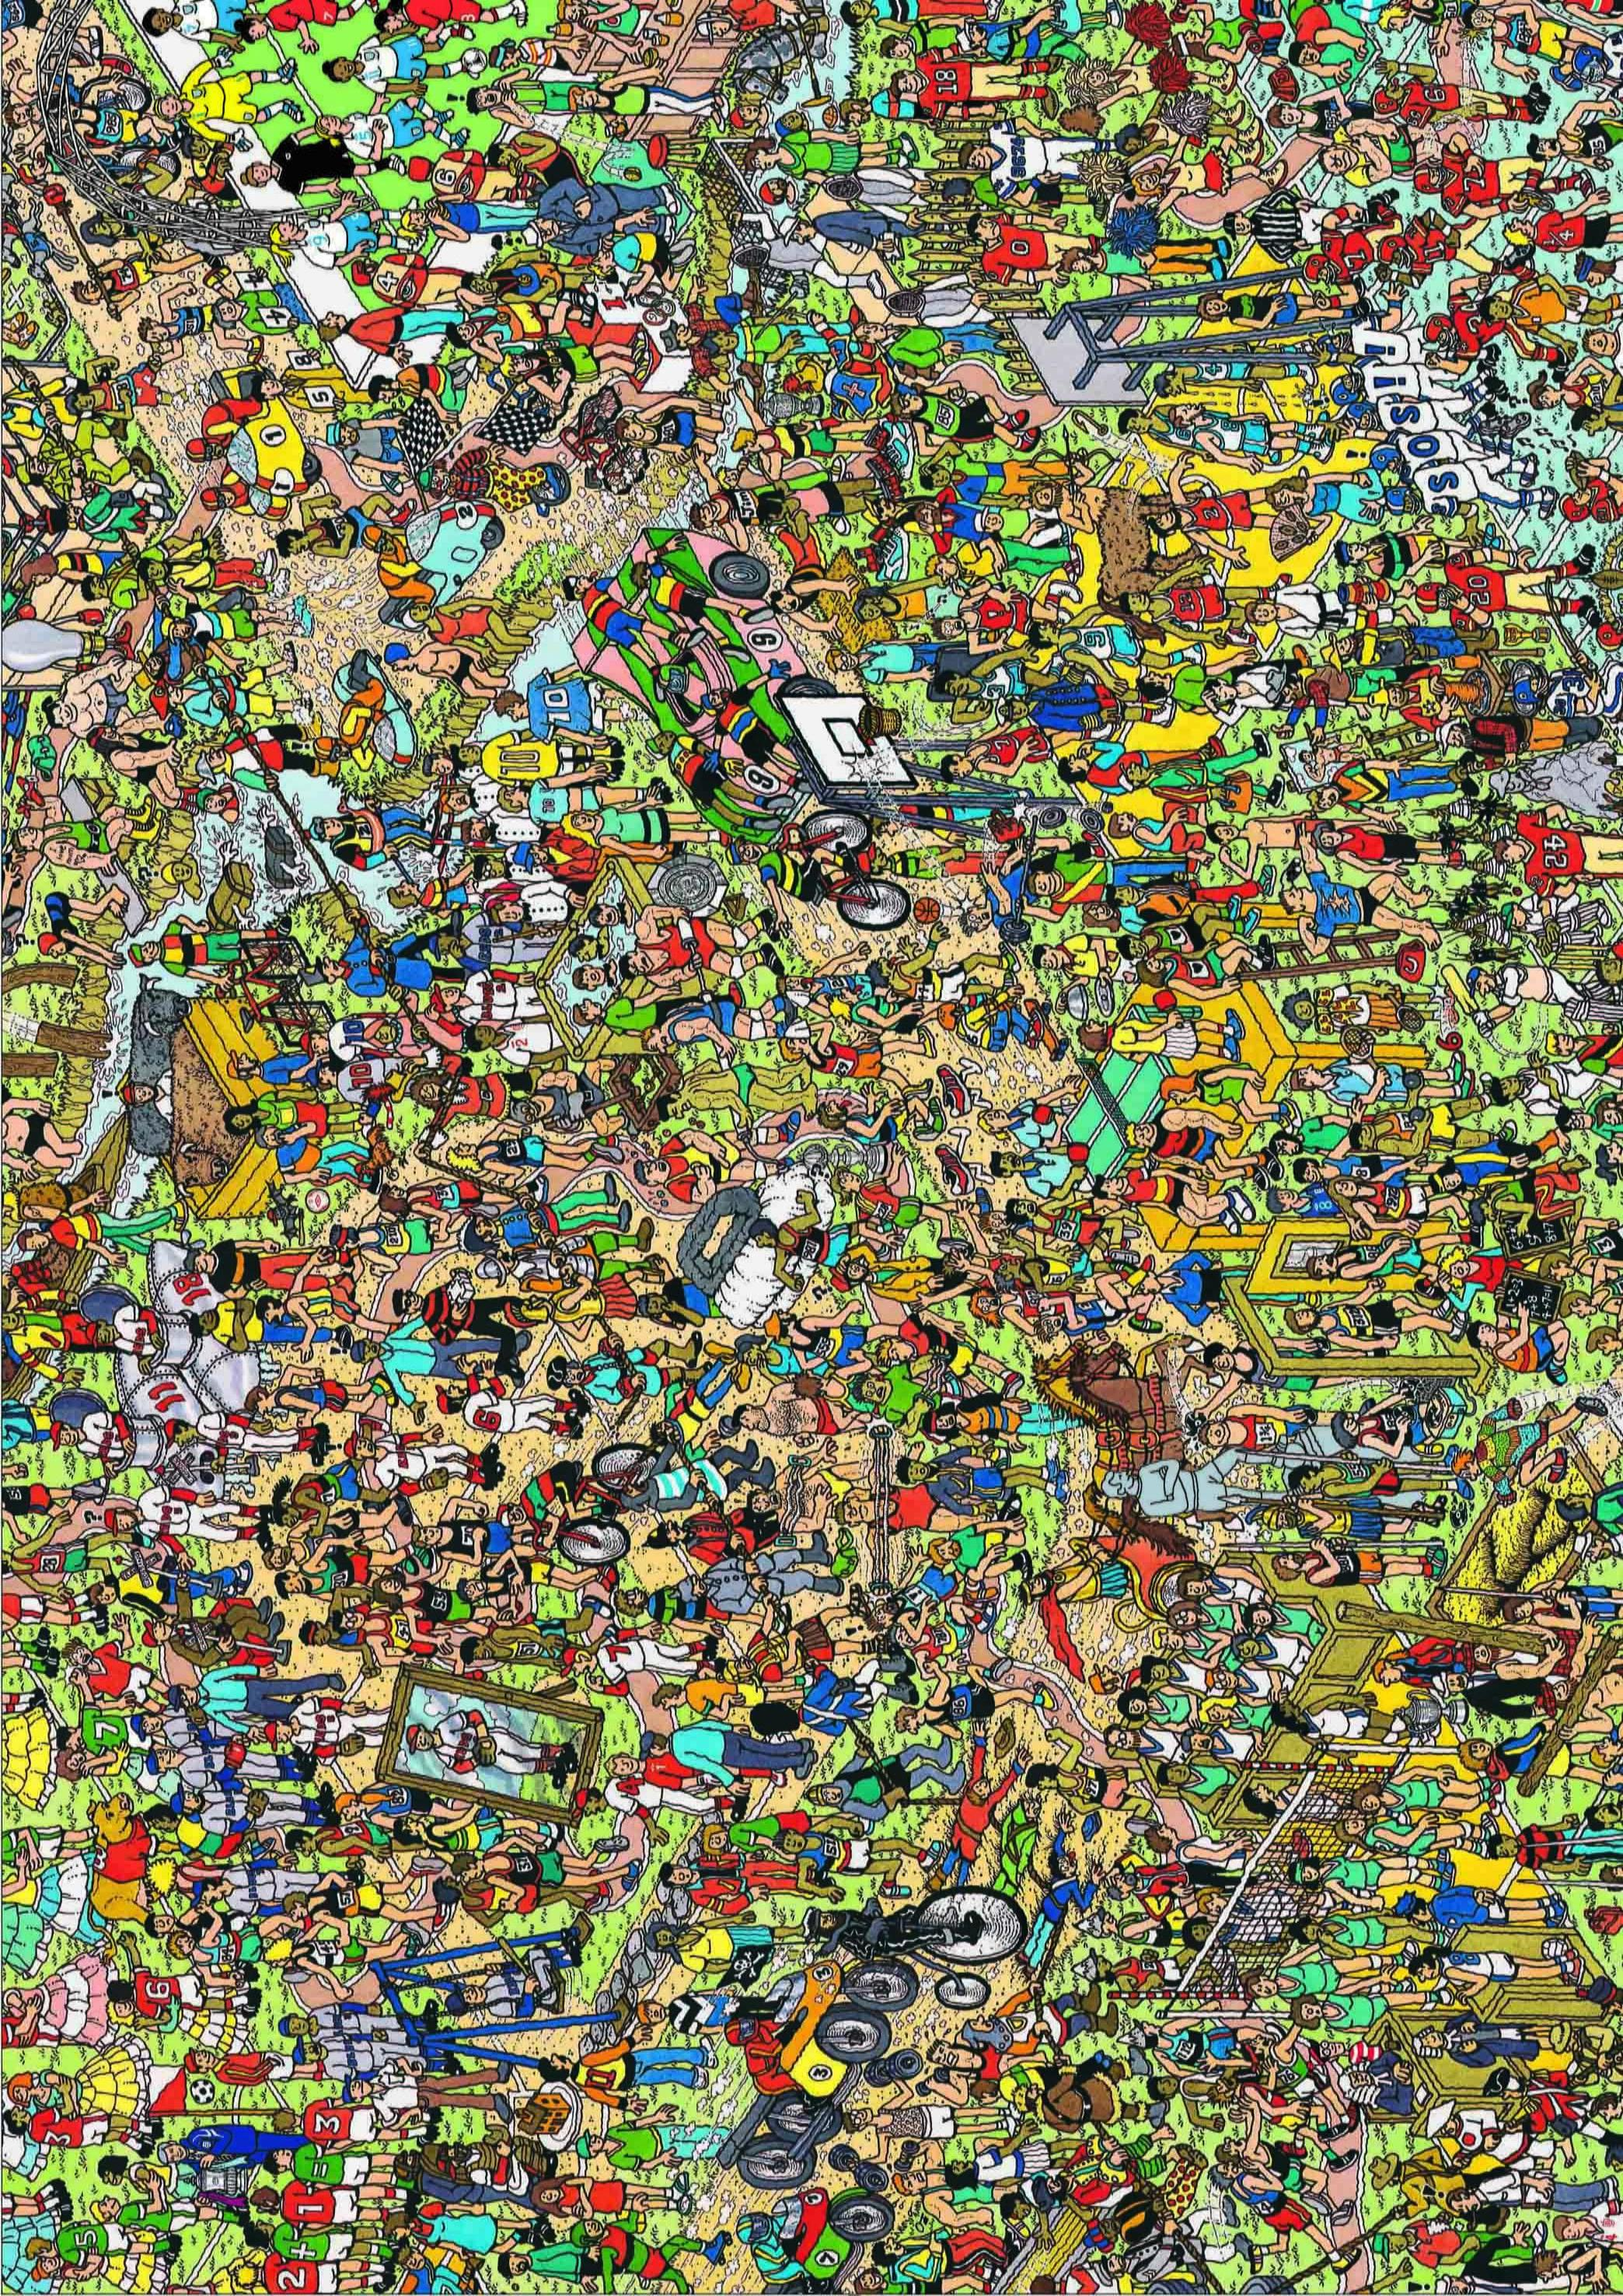waldos: (1310, 2032, 1382, 2071)
